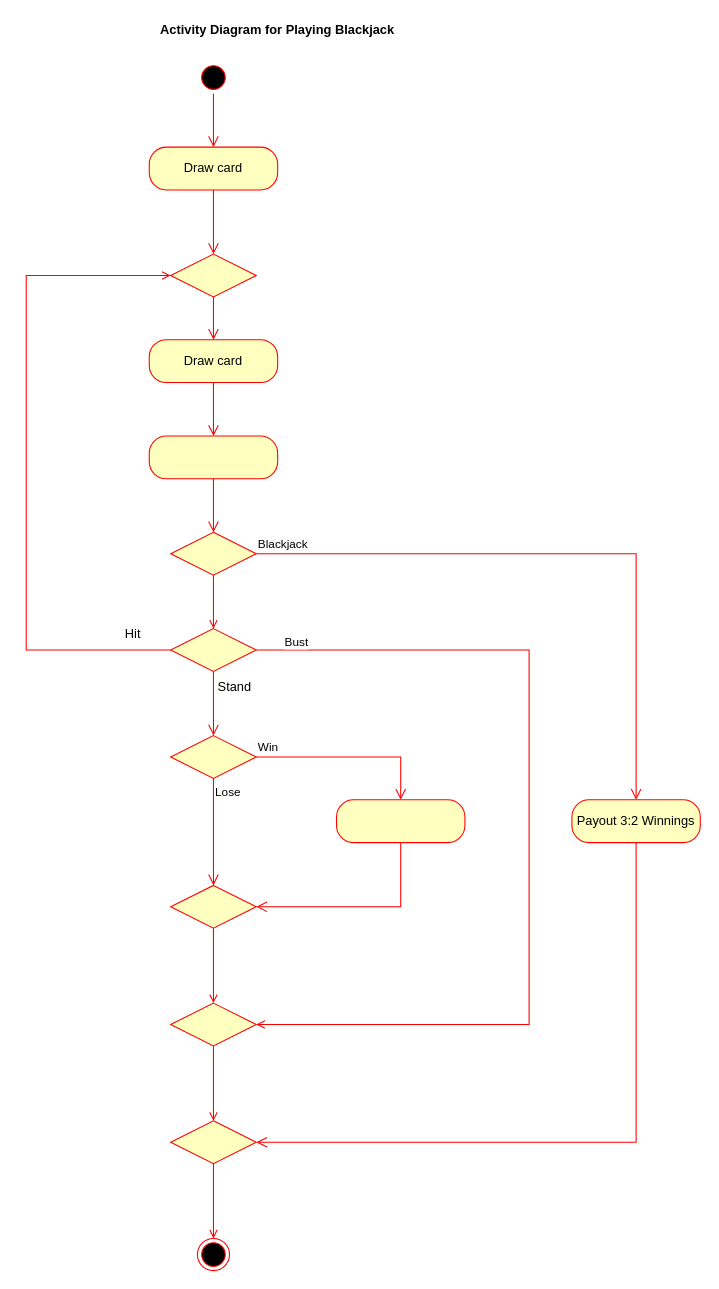
Some shapes in this 719 by 1289 pixel diagram are drawn without their labels. Here are the shapes that lost their labels. From the top down, the centre of each, then its label:
point (213, 457): Add total
point (400, 821): Payout 1:1 Winnings
